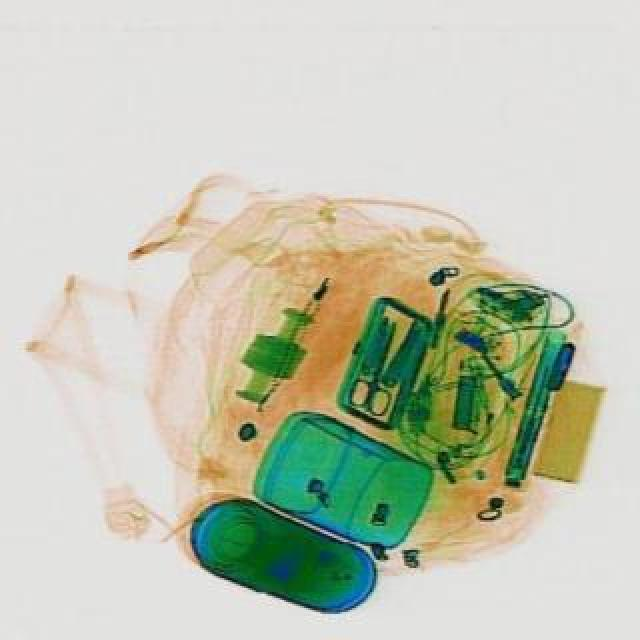pliers: (342, 316, 414, 416)
